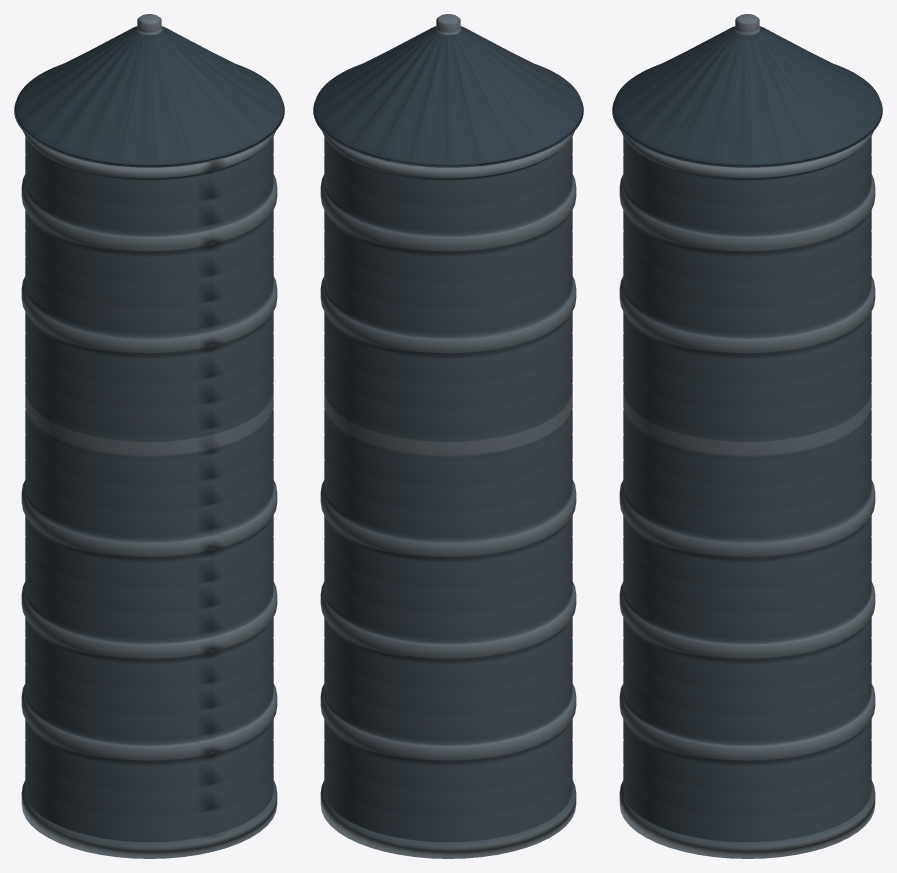
File: grain-silo-small-shell-tripo-original.glb
3 views of the same model, side by side, from view 1: azimuth 30°, elevation 25°; view 2: azimuth 150°, elevation 25°; view 3: azimuth 270°, elevation 25° (orthographic).
Visible parts, largest first — view 1: Authored_surface_001; view 2: Authored_surface_001; view 3: Authored_surface_001.
Boxes of the visible parts, <box> form: Authored_surface_001: <box>14,14,284,858</box>; Authored_surface_001: <box>313,14,583,858</box>; Authored_surface_001: <box>612,14,882,858</box>.
Size of the model in its own units: 0.3118 by 1 by 0.3118.
1 material, 1 textured.
